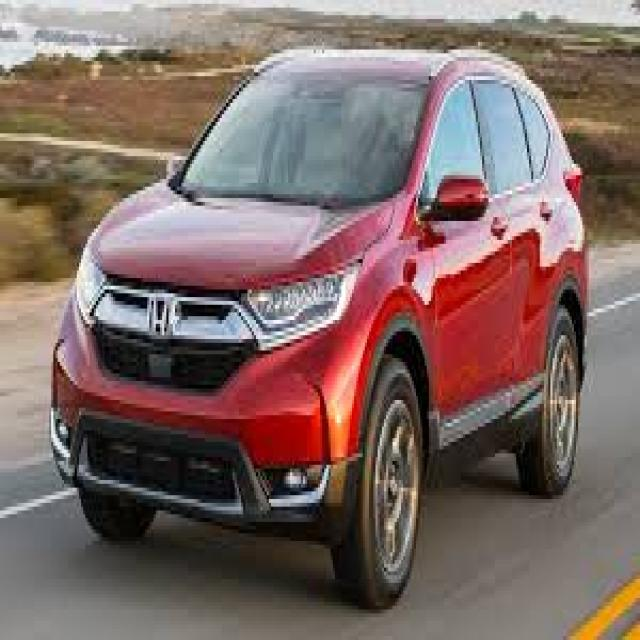Car: (45, 37, 591, 613)
